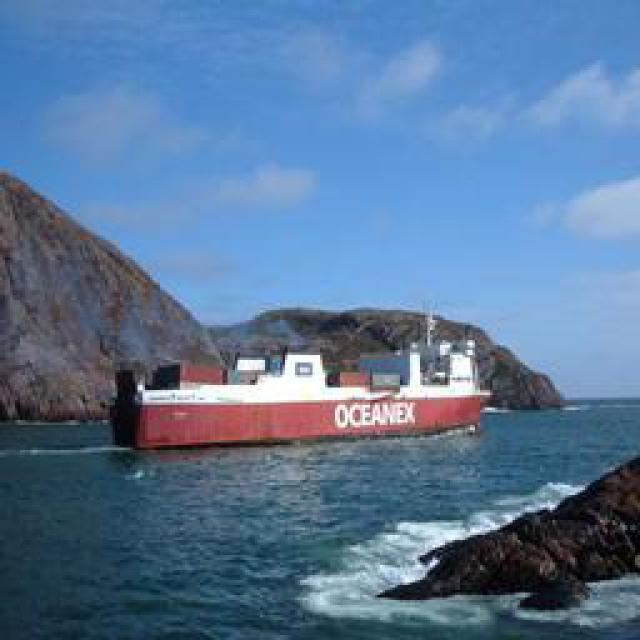Ship: (112, 355, 482, 450)
